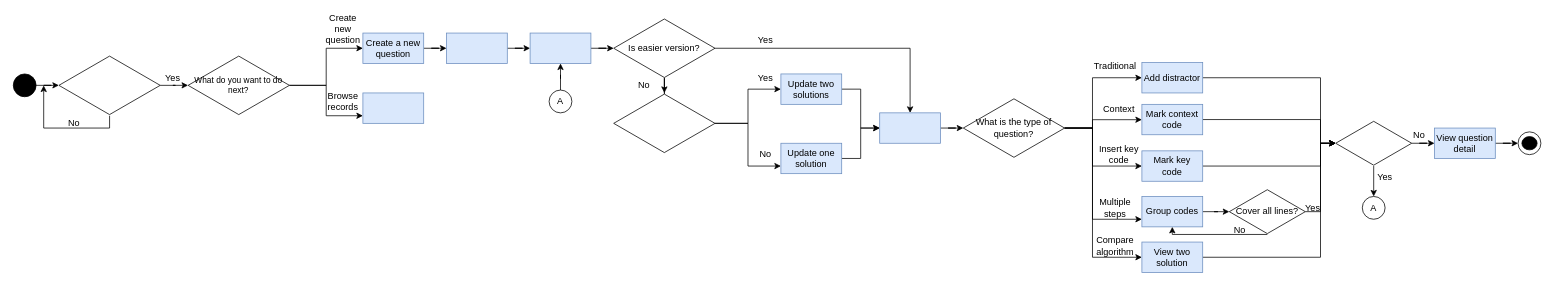
Some shapes in this 1554 by 286 pixel diagram are drawn without their labels. The shapes that lost their labels are listed below. From the top down, each one's centre as x and y in pixels, then its label:
(476,47): Input question information
(560,47): Choose question type
(109,85): Register or login successfully?
(393,107): Browse all students' records
(664,123): Is question type "algorithm comparison"?
(909,127): Customise solution
(1373,143): Have easier version?
